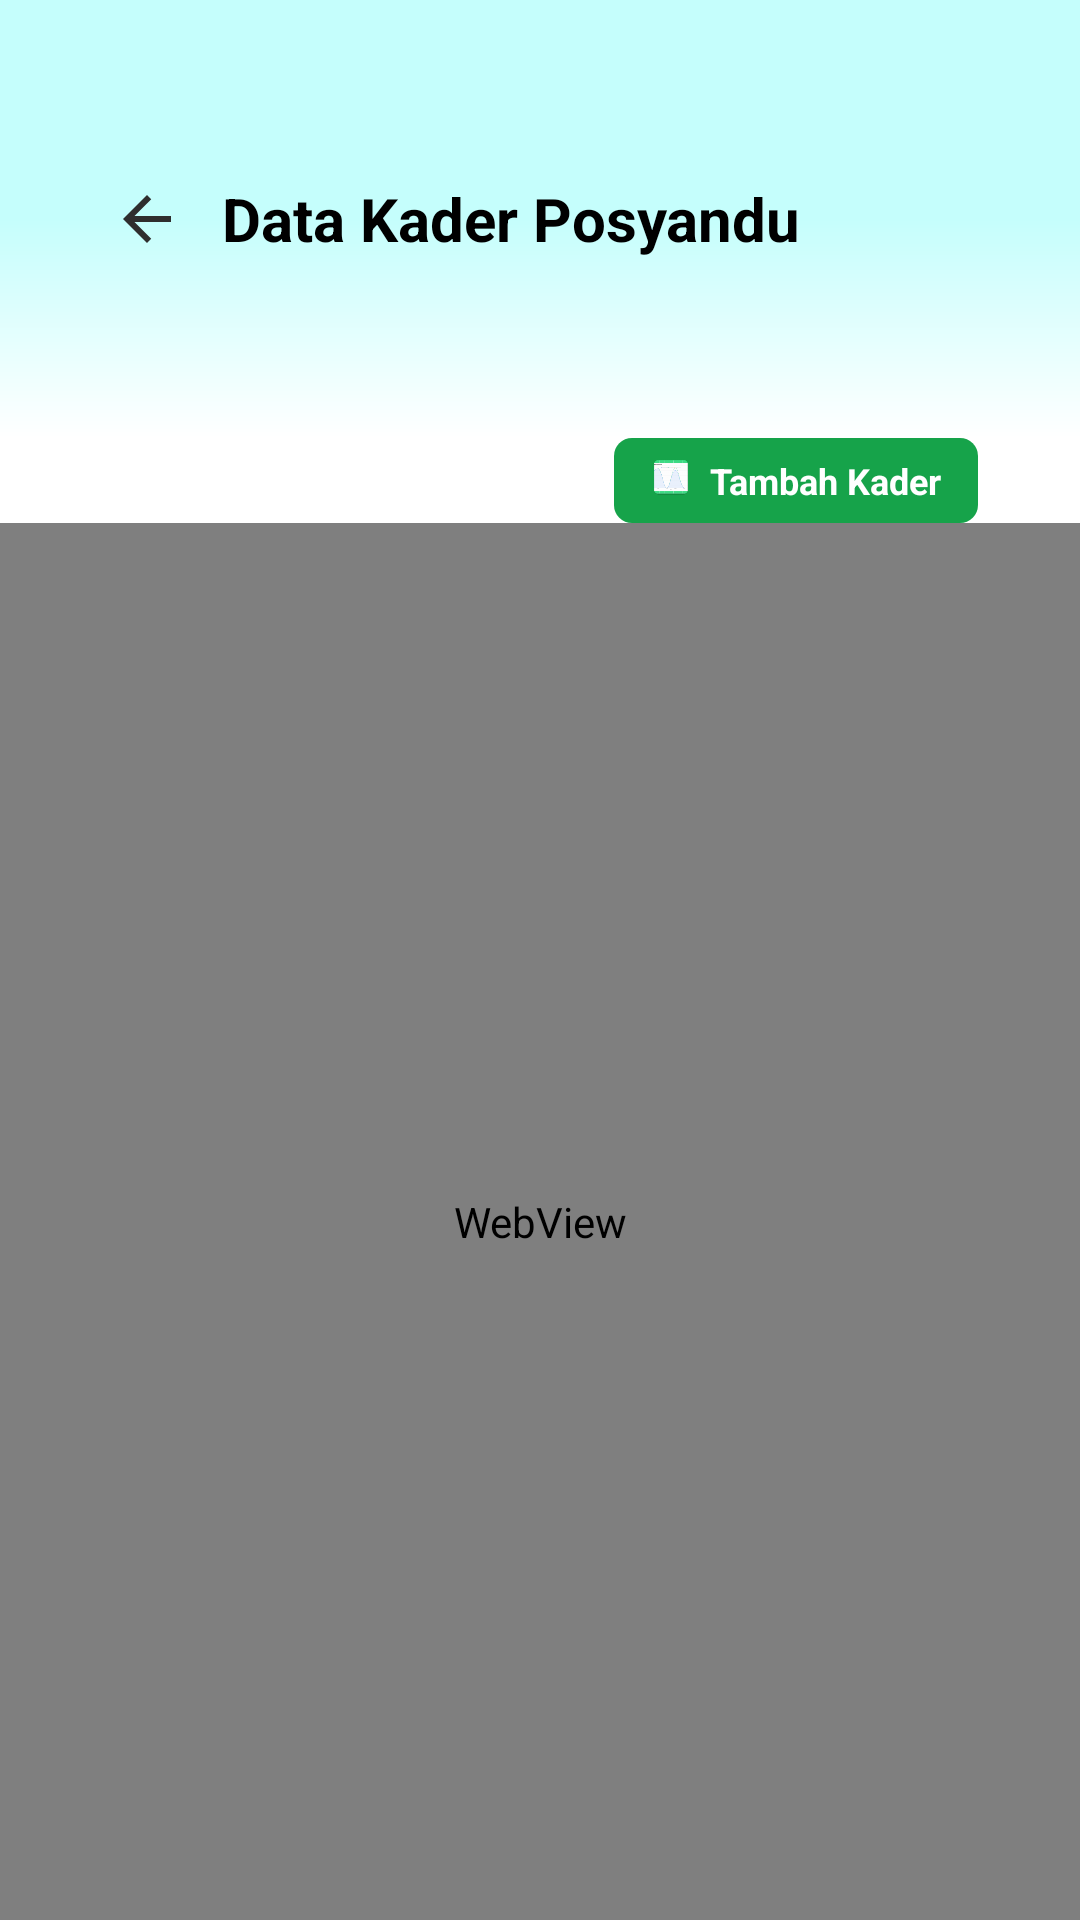

Named icons in this screenshot (1080px×1920px) and their bounding boxes, bbox(x1, y1, x2, y2):
arrow back: bbox(123, 195, 171, 243)
